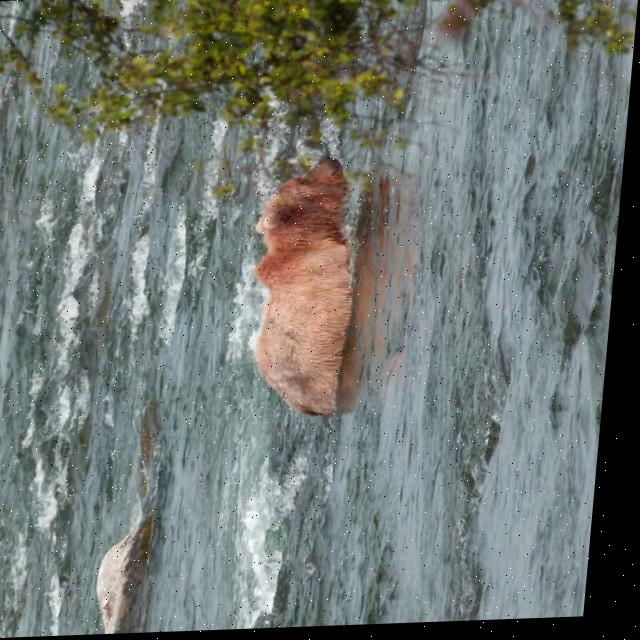bear face: (244, 154, 364, 417)
